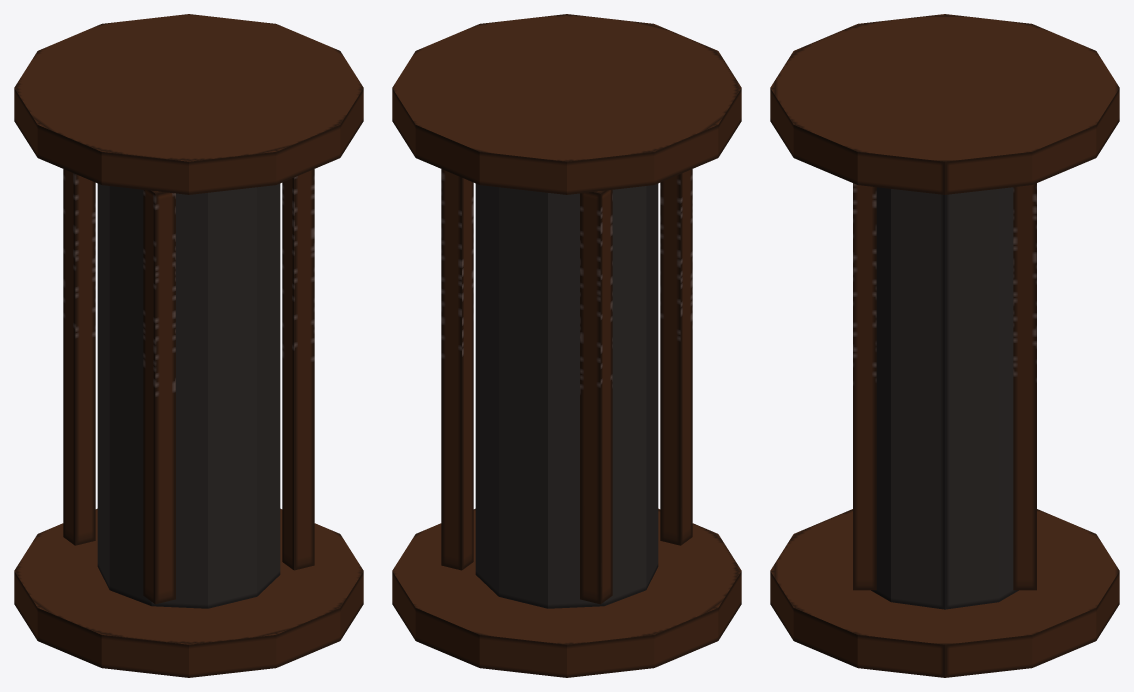
Rendered from DrumNeck.obj.
3 views of the same model, side by side, from view 1: azimuth 30°, elevation 25°; view 2: azimuth 150°, elevation 25°; view 3: azimuth 270°, elevation 25° (orthographic).
Visible parts, largest first — view 1: DrumNeck; view 2: DrumNeck; view 3: DrumNeck.
Part boxes in pixels (x1,y1,x2,y2): DrumNeck: (14, 14, 363, 677); DrumNeck: (392, 14, 741, 677); DrumNeck: (770, 14, 1119, 677).
Bounding box in the file's own units: 3.24 × 5.28 × 3.24.
1 material, 1 textured.
